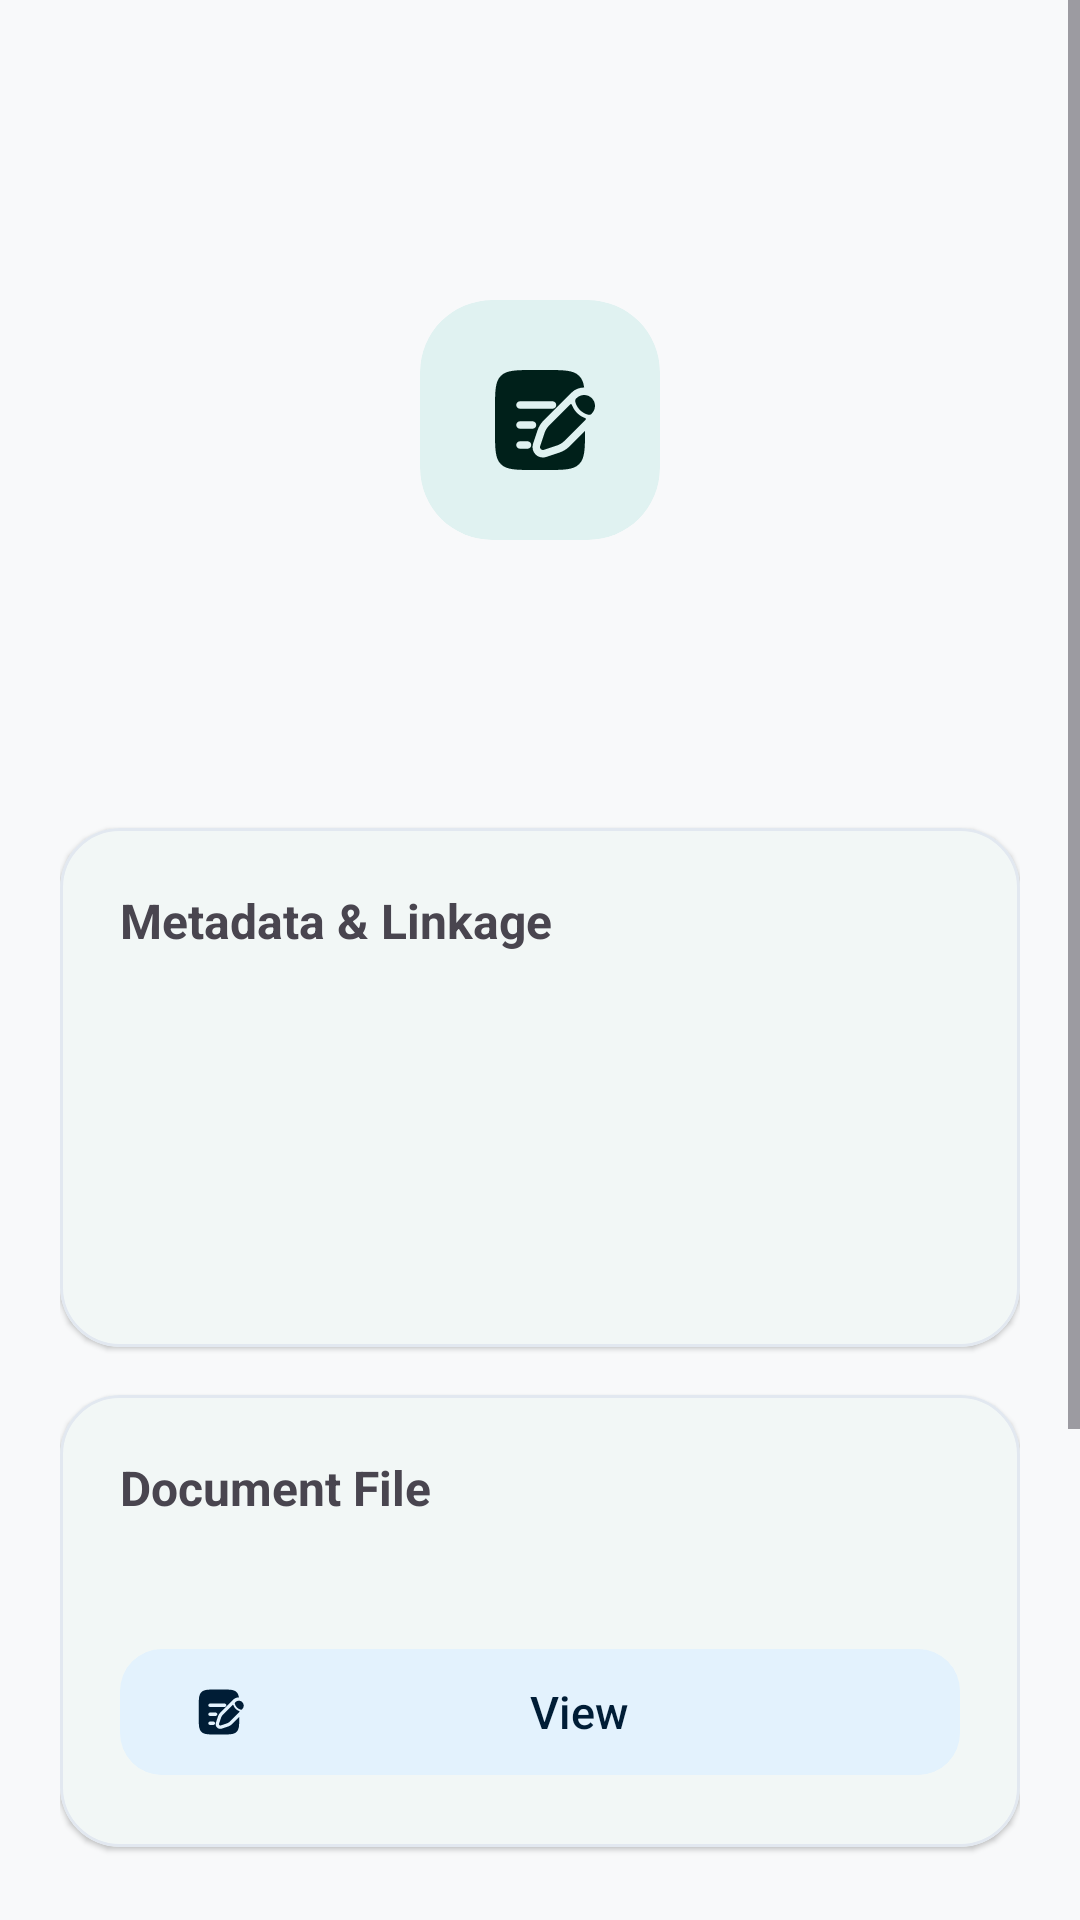

Icons on this 1080×1920 Android screen, each with its box as [left=x1, top=y1, right=x2, bottom=y2]:
document: [left=495, top=370, right=595, bottom=470]
